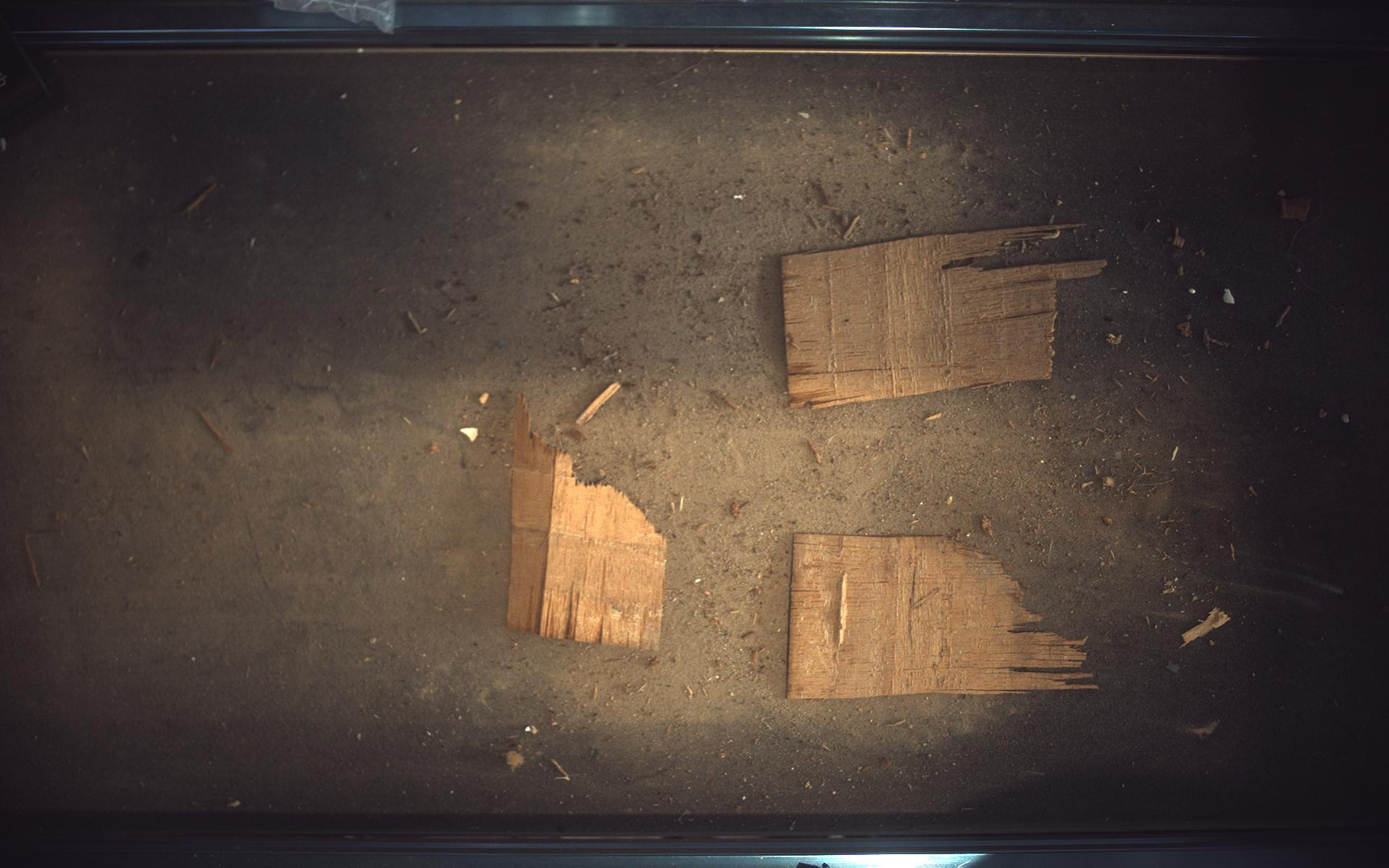wood: (784, 223, 1108, 409), (789, 534, 1098, 700), (509, 396, 666, 650)
